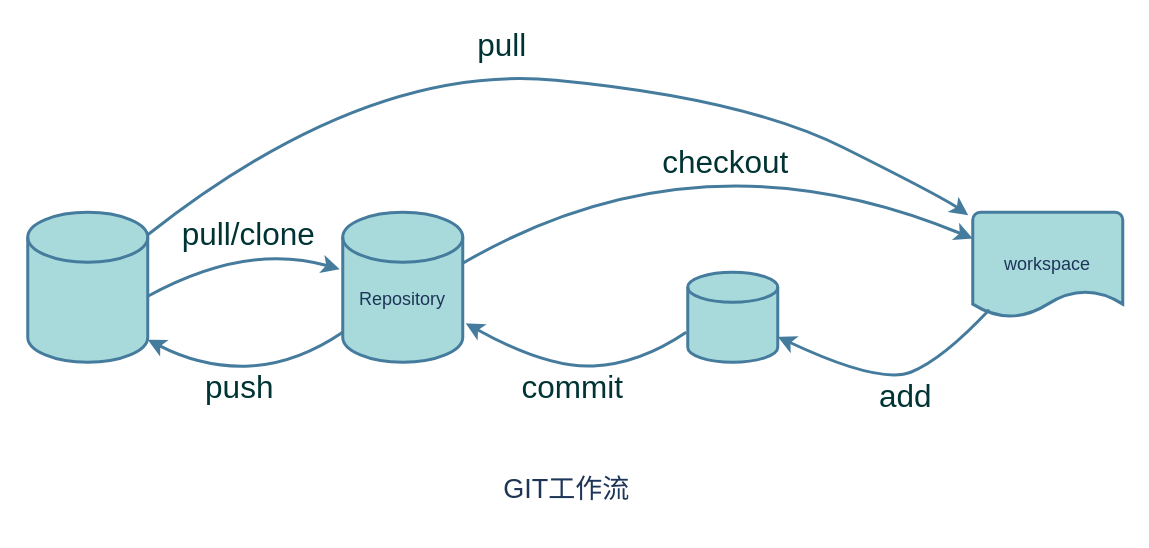
Image size: 1149x548. Some labels were removed from this diagram. The box of each missing label's shape, as (x1, y1, x2, y2) in pixels:
Index: (686, 270, 778, 363)
Remote: (26, 210, 148, 363)
